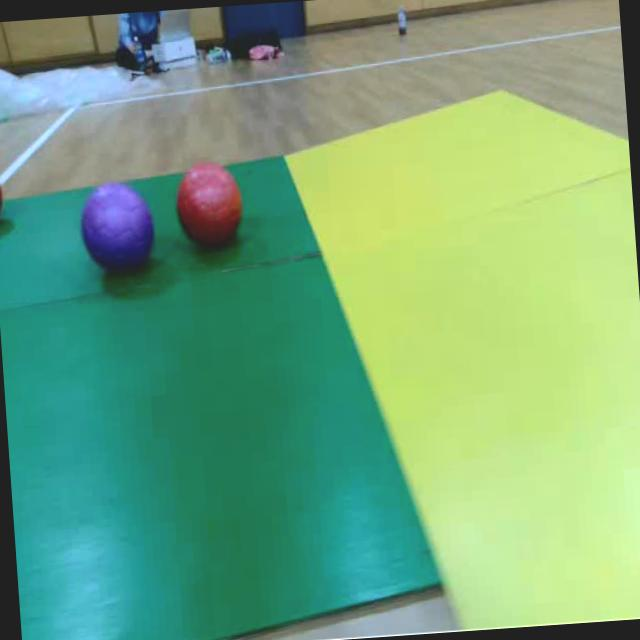purple_ball: (72, 174, 164, 290)
red_ball: (168, 152, 254, 262)
